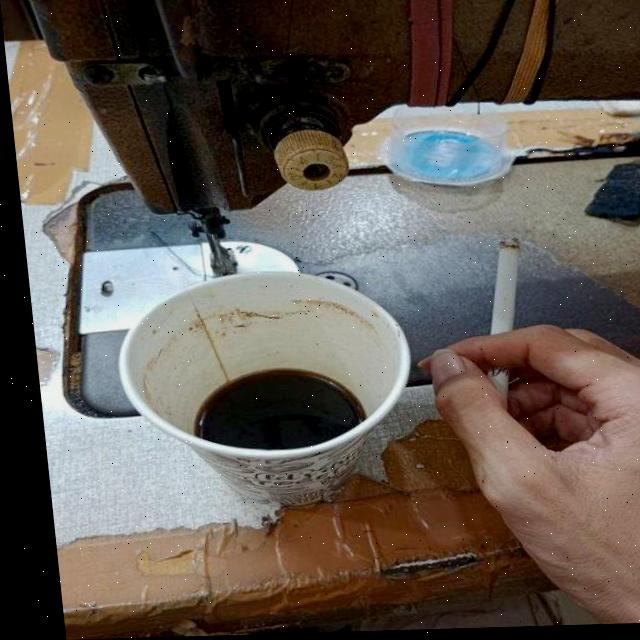cigarette: (467, 240, 528, 417)
